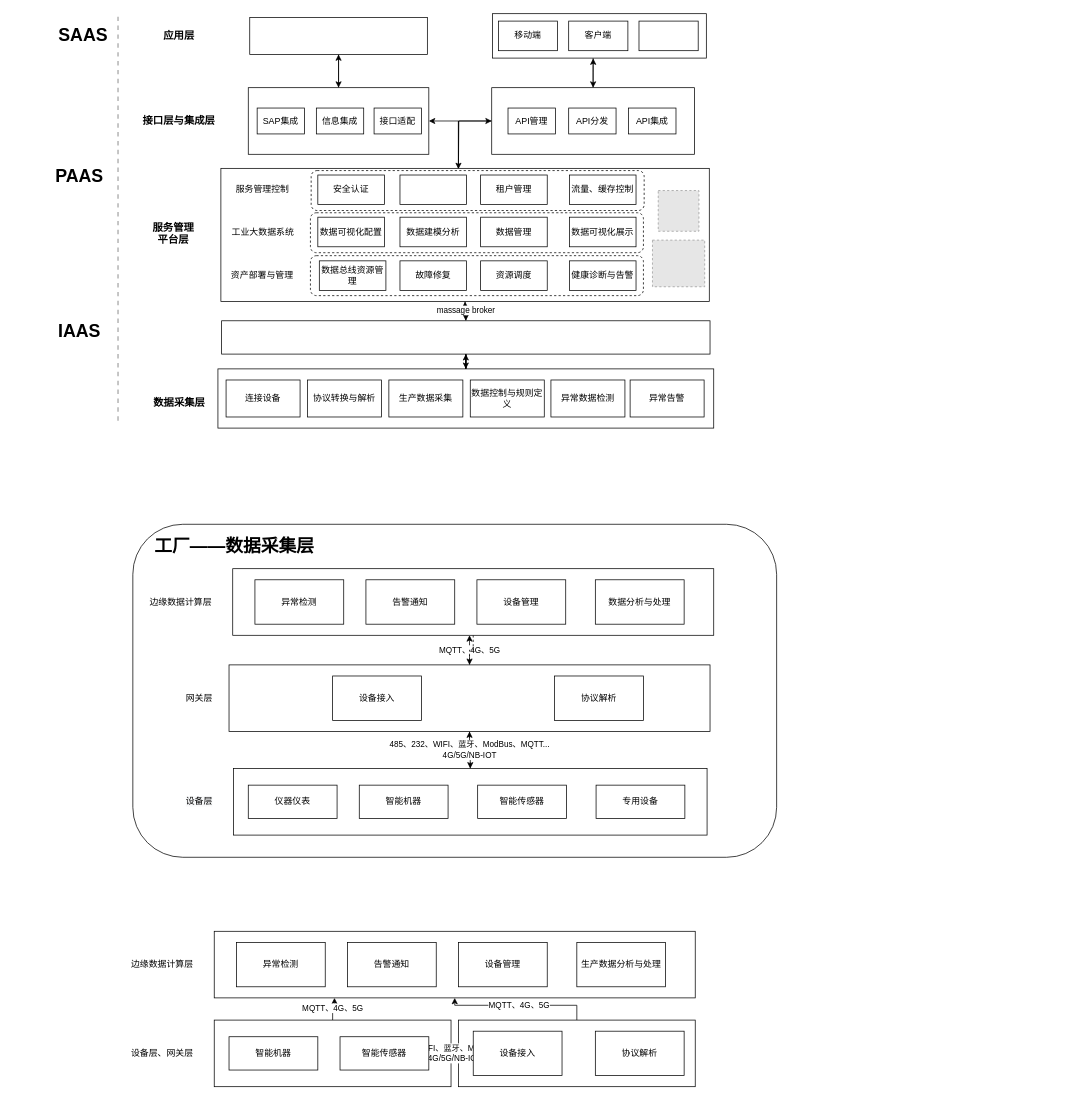
Image size: 1079x1100. Some labels were removed from this diagram. Grey dashed boxes stand in for pictures. The centre of each missing label's shape, as x and y in pixels:
"MES、ERP、PDM、PLM.." belongs at (x=338, y=35).
"Web端" belongs at (x=668, y=35).
"存储、网络、计算、安全" belongs at (x=465, y=337).
"权限管理 会话管理" belongs at (x=433, y=189).
